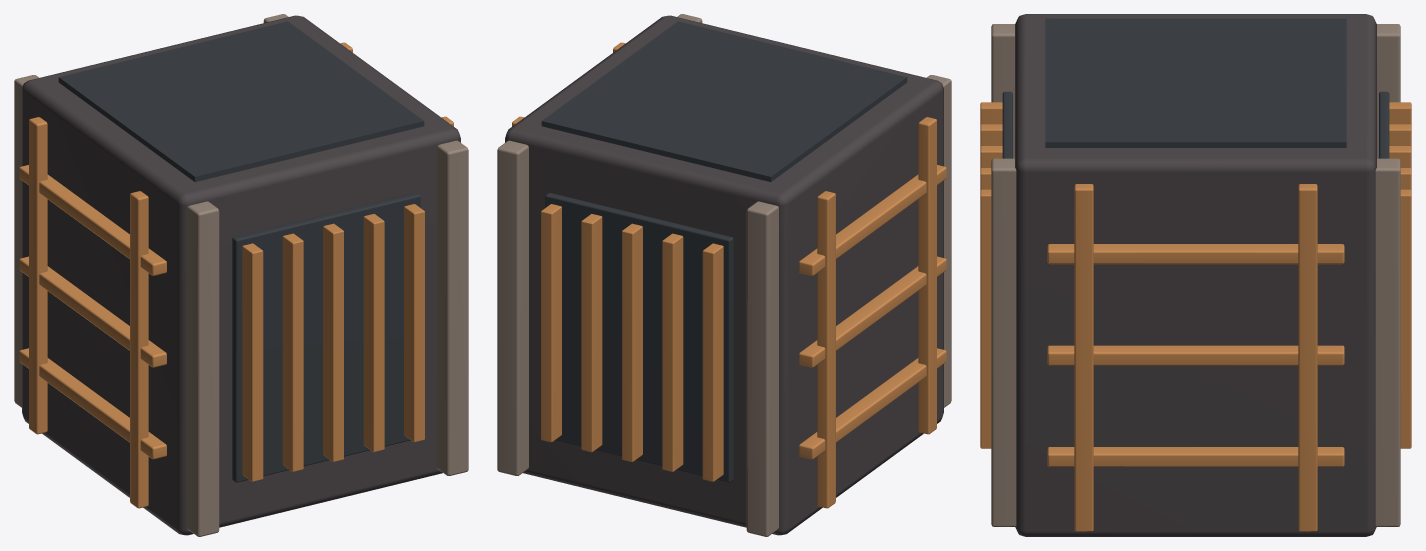
The model's file is uplink-shaft-1.glb.
3 renders of one model, left to right at view 1: azimuth 30°, elevation 25°; view 2: azimuth 150°, elevation 25°; view 3: azimuth 270°, elevation 25°, orthographic. The views are drawn at different scales.
Parts seen in each view (by area): view 1: uplink_0, uplink_2, uplink_3, uplink_1; view 2: uplink_0, uplink_2, uplink_3, uplink_1; view 3: uplink_0, uplink_2, uplink_3, uplink_1.
Boxes of the visible parts, left/top/right/bottom form: uplink_0: left=22, top=15, right=460, bottom=535; uplink_2: left=58, top=21, right=424, bottom=482; uplink_3: left=19, top=42, right=453, bottom=508; uplink_1: left=14, top=14, right=468, bottom=536; uplink_0: left=505, top=15, right=943, bottom=535; uplink_2: left=541, top=21, right=907, bottom=482; uplink_3: left=512, top=42, right=946, bottom=508; uplink_1: left=497, top=14, right=951, bottom=536; uplink_0: left=1015, top=14, right=1376, bottom=536; uplink_2: left=1002, top=18, right=1389, bottom=158; uplink_3: left=980, top=102, right=1411, bottom=531; uplink_1: left=991, top=24, right=1400, bottom=526.
Bounding box in the file's own units: 0.94 × 1 × 1.
